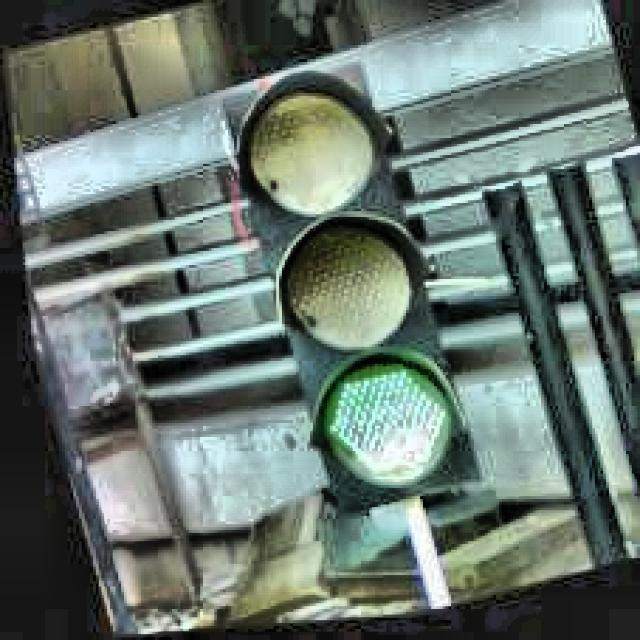green: (212, 61, 476, 526)
